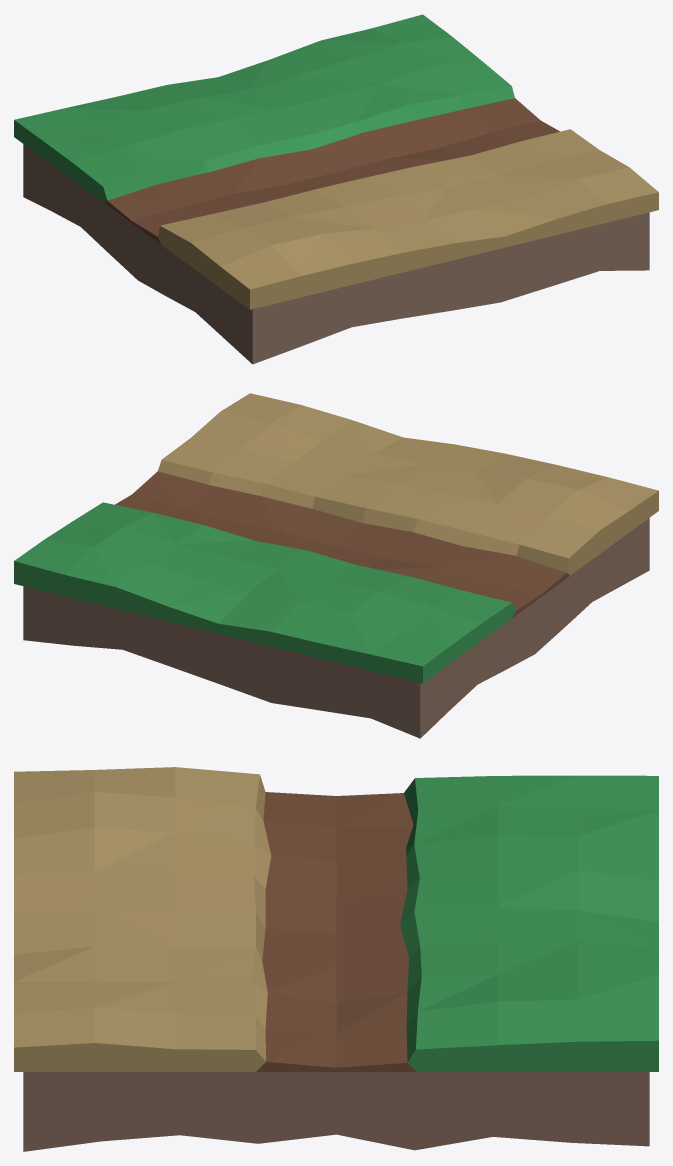
Rendered from Landscape.fbx.
3 renders of one model, top to bottom at view 1: azimuth 30°, elevation 25°; view 2: azimuth 150°, elevation 25°; view 3: azimuth 270°, elevation 25°, orthographic. The views are drawn at different scales.
Visible parts, largest first — view 1: Cube; view 2: Cube; view 3: Cube.
Part boxes in pixels (x1=…): Cube: x1=14, y1=14, x2=658, y2=364; Cube: x1=14, y1=393, x2=658, y2=738; Cube: x1=14, y1=767, x2=658, y2=1151.
Size of the model in its own units: 200 by 42.96 by 200.
